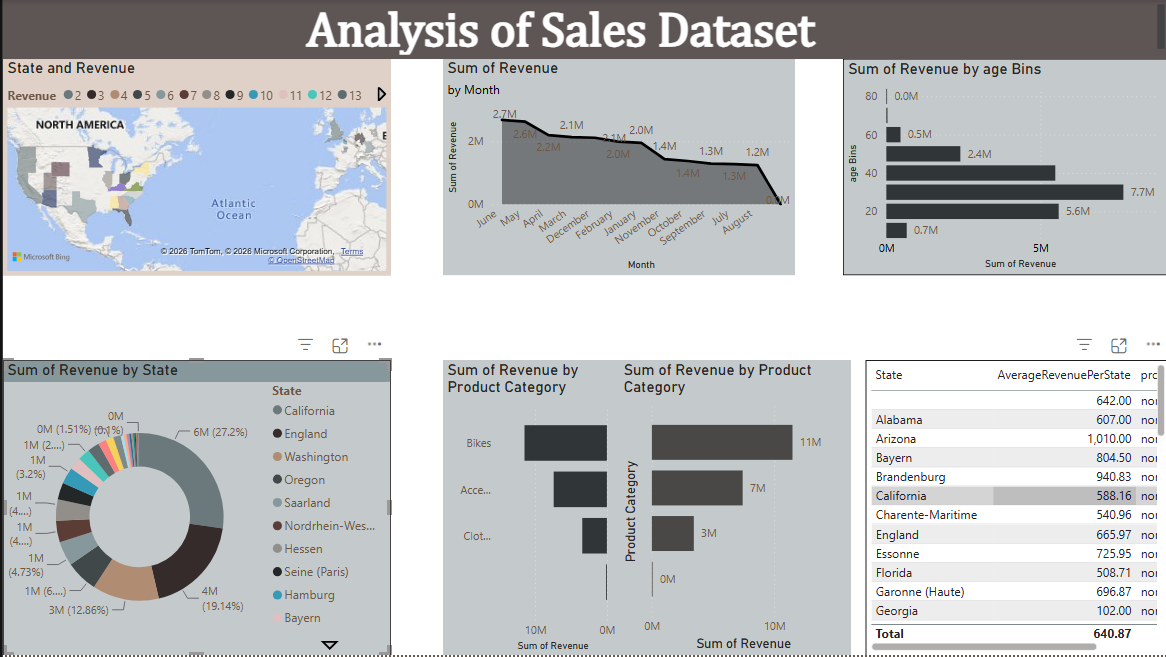

This screenshot's page, from the dashboard's own definition file:
{"tool":"powerbi","page":{"name":"Page 7","canvas":[1280,720],"ordinal":6},"visuals":[{"type":"filledMap","fields":{"Category":["salesforcourse-4fe2kehu.State"],"Series":["salesforcourse-4fe2kehu.Revenue"]},"box":[0,0,425.9,302.5],"z":0},{"type":"lineChart","fields":{"Y":["Sum(salesforcourse-4fe2kehu.Revenue)"],"Category":["salesforcourse-4fe2kehu.Month"]},"box":[482.7,0,386.4,302.5],"z":1000},{"type":"barChart","fields":{"Y":["Sum(salesforcourse-4fe2kehu.Revenue)"],"Category":["salesforcourse-4fe2kehu.age Bins"]},"box":[922.3,0,358,302],"z":2000},{"type":"donutChart","fields":{"Category":["salesforcourse-4fe2kehu.State"],"Y":["Sum(salesforcourse-4fe2kehu.Revenue)"]},"box":[0,345.7,425.9,375.3],"z":3000},{"type":"barChart","fields":{"Category":["salesforcourse-4fe2kehu.Product Category"],"Y":["Sum(salesforcourse-4fe2kehu.Revenue)"]},"box":[482.7,354.3,193.8,365.4],"z":4000},{"type":"barChart","fields":{"Category":["salesforcourse-4fe2kehu.Product Category"],"Y":["Sum(salesforcourse-4fe2kehu.Revenue)"]},"box":[676.5,354.3,254.3,365.4],"z":5000},{"type":"tableEx","fields":{"Values":["salesforcourse-4fe2kehu.State","salesforcourse-4fe2kehu.AverageRevenuePerState","salesforcourse-4fe2kehu.profitable status"]},"box":[946.9,354.3,333.3,365.4],"z":6000}]}

Visuals, with their boxes in screenshot pixels (x1, y1, x2, y2), scaled from the page's 1280x720 canvas onto the 1166x657 screenshot:
filledMap - salesforcourse-4fe2kehu.State x salesforcourse-4fe2kehu.Revenue: {"x1": 0, "y1": 0, "x2": 388, "y2": 276}
lineChart - Sum(salesforcourse-4fe2kehu.Revenue) x salesforcourse-4fe2kehu.Month: {"x1": 440, "y1": 0, "x2": 792, "y2": 276}
barChart - Sum(salesforcourse-4fe2kehu.Revenue) x salesforcourse-4fe2kehu.age Bins: {"x1": 840, "y1": 0, "x2": 1165, "y2": 276}
donutChart - salesforcourse-4fe2kehu.State x Sum(salesforcourse-4fe2kehu.Revenue): {"x1": 0, "y1": 315, "x2": 388, "y2": 656}
barChart - salesforcourse-4fe2kehu.Product Category x Sum(salesforcourse-4fe2kehu.Revenue): {"x1": 440, "y1": 323, "x2": 616, "y2": 656}
barChart - salesforcourse-4fe2kehu.Product Category x Sum(salesforcourse-4fe2kehu.Revenue): {"x1": 616, "y1": 323, "x2": 848, "y2": 656}
tableEx - salesforcourse-4fe2kehu.State x salesforcourse-4fe2kehu.AverageRevenuePerState: {"x1": 863, "y1": 323, "x2": 1165, "y2": 656}
